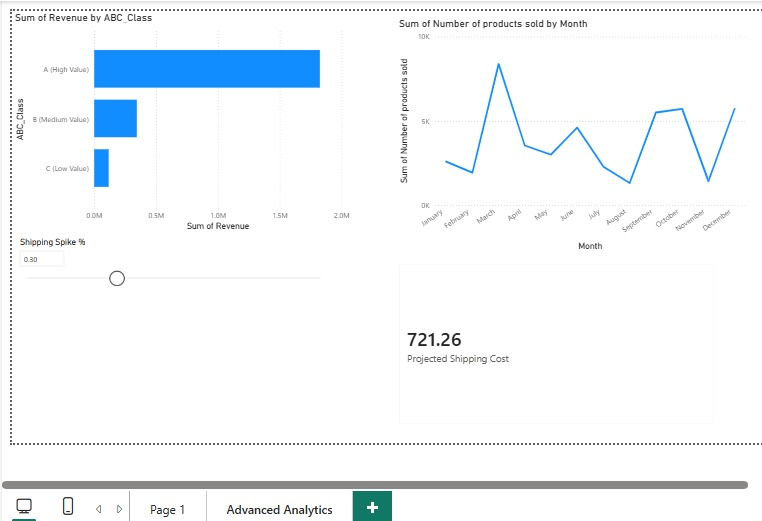

Layout of this report page (visuals, bound fields, positions):
{"tool":"powerbi","page":{"name":"Advanced Analytics","canvas":[1280,720],"ordinal":1},"visuals":[{"type":"clusteredBarChart","fields":{"Category":["final_supply_chain_project.ABC_Class"],"Y":["Sum(final_supply_chain_project.Revenue)"]},"box":[0,0,568.3,371.7],"z":0},{"type":"slicer","fields":{"Values":["Shipping Spike %.Shipping Spike %"]},"box":[0,371.7,536.7,333.3],"z":1000},{"type":"cardVisual","fields":{"Data":["final_supply_chain_project.Projected Shipping Cost"]},"box":[628.3,405,558.3,300],"z":2000},{"type":"lineChart","fields":{"Y":["Sum(final_supply_chain_project.Number of products sold)"],"Category":["final_supply_chain_project.Date_of_Sale.Variation.Date Hierarchy.Month"]},"box":[640,10,586.7,395],"z":3000}]}

Visuals, with their boxes on the page's 1280x720 design canvas (x1, y1, x2, y2). These are canvas units, not pixel positions in the 762x521 screenshot, which may show the page scaled, cropped or inside an application window:
clusteredBarChart - final_supply_chain_project.ABC_Class x Sum(final_supply_chain_project.Revenue): x1=0 y1=0 x2=568 y2=372
slicer - Shipping Spike %.Shipping Spike %: x1=0 y1=372 x2=537 y2=705
cardVisual - final_supply_chain_project.Projected Shipping Cost: x1=628 y1=405 x2=1187 y2=705
lineChart - Sum(final_supply_chain_project.Number of products sold) x final_supply_chain_project.Date_of_Sale.Variation.Date Hierarchy.Month: x1=640 y1=10 x2=1227 y2=405
